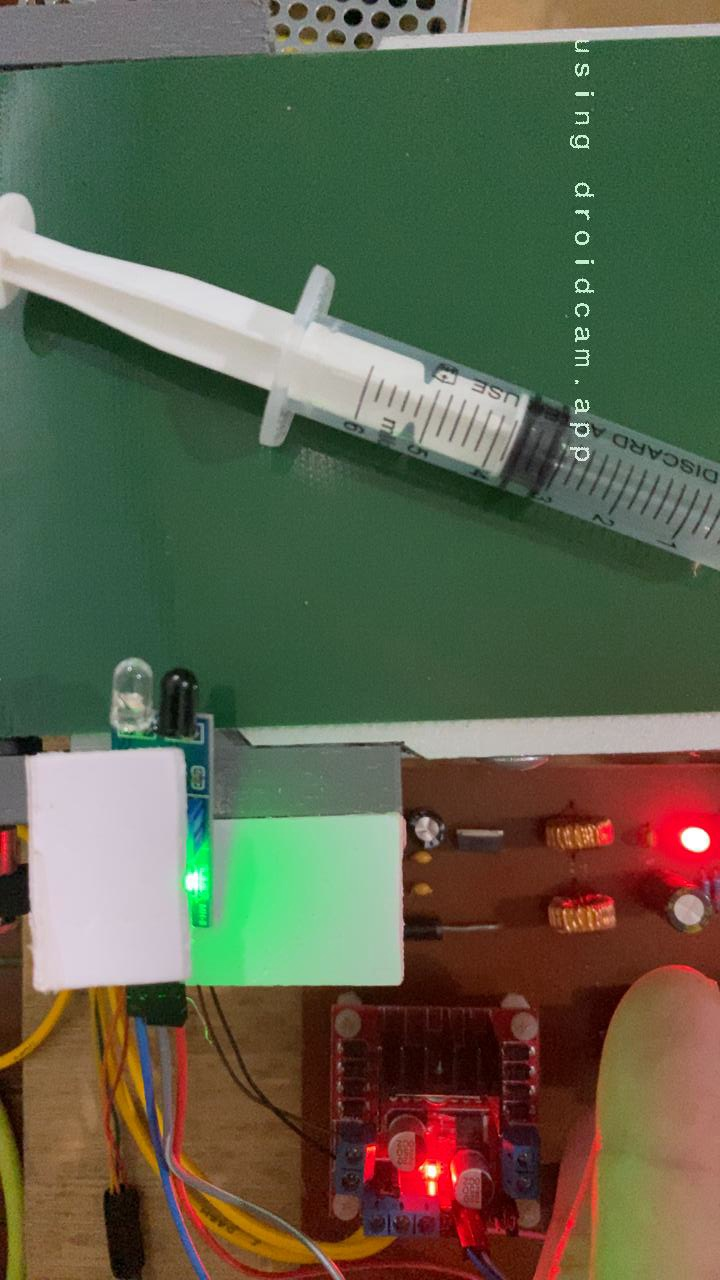syringe: (0, 185, 720, 579)
